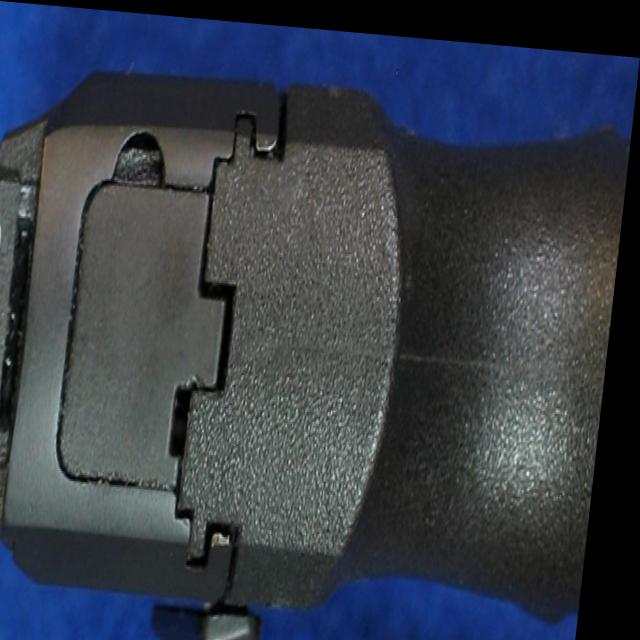handgun: (0, 65, 629, 616)
